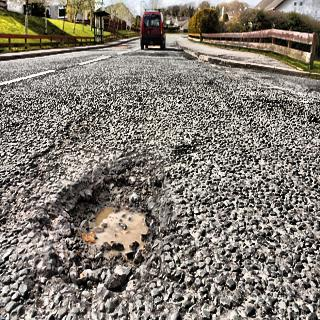pothole: (31, 154, 162, 289)
